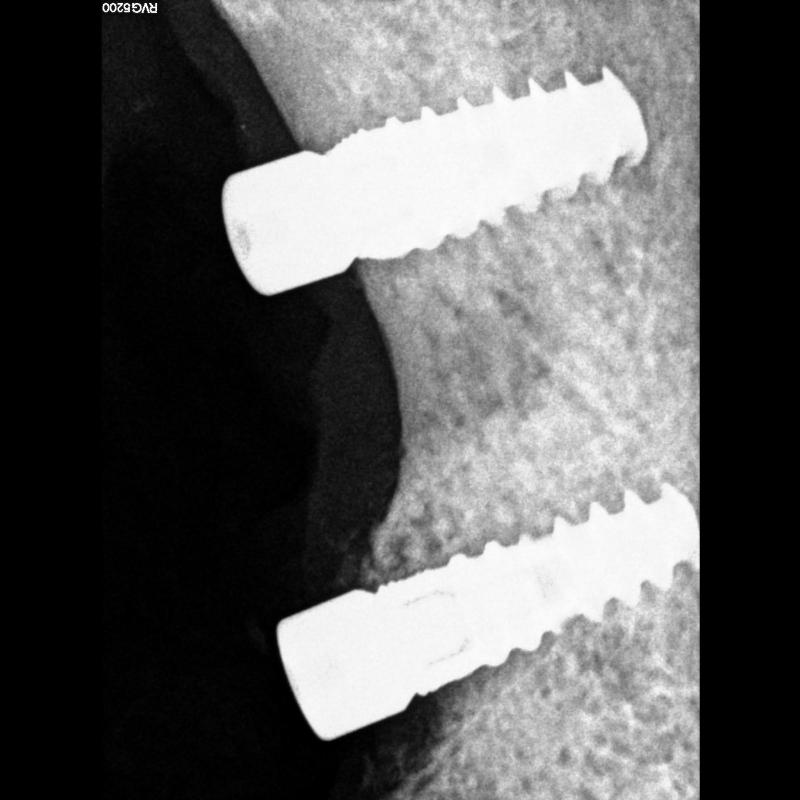NORIS: (415, 477, 700, 700), (354, 65, 652, 261)
